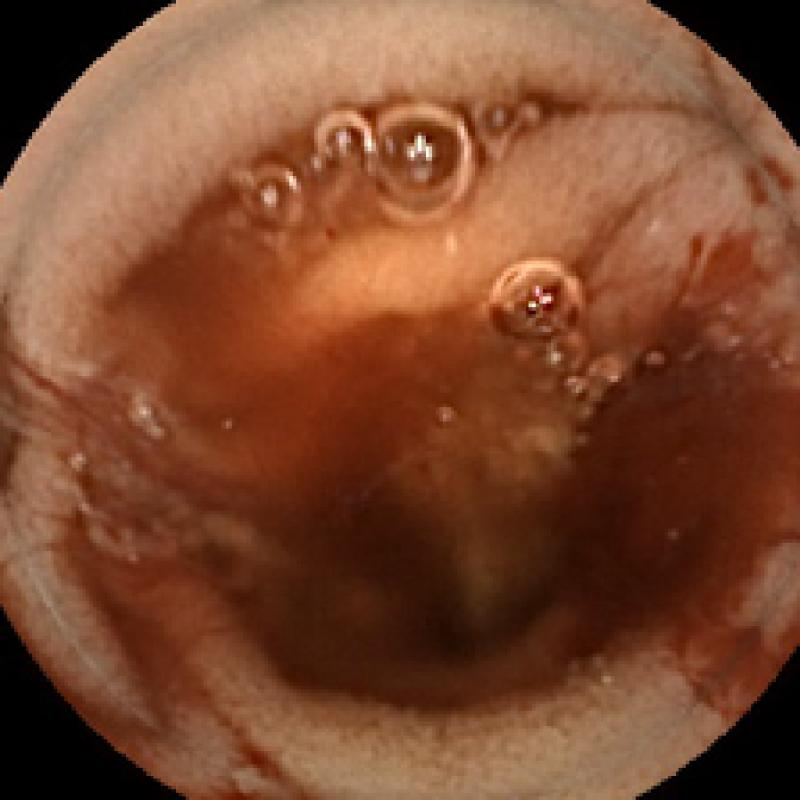bleeding: (578, 146, 800, 714)
